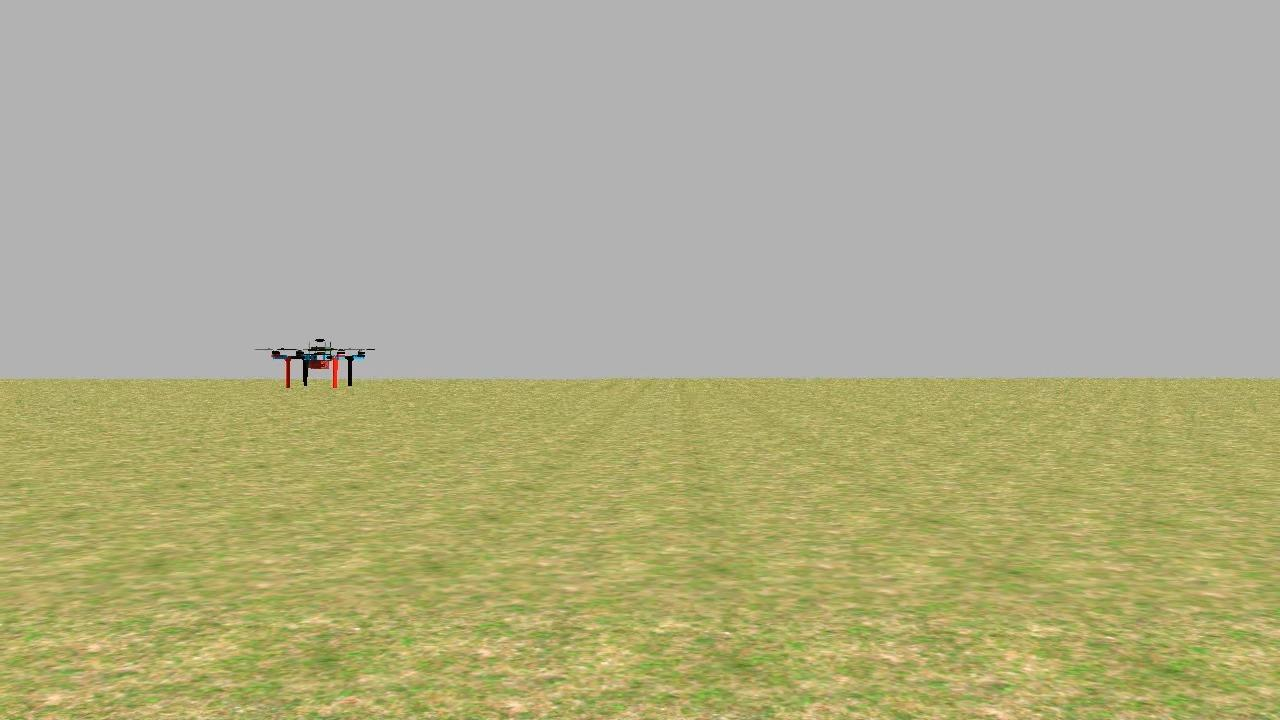UAV: (262, 334, 368, 395)
